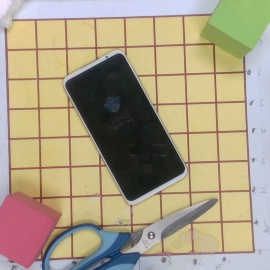phone: (63, 48, 188, 205)
